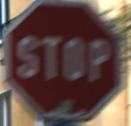Stop sign: (0, 0, 130, 125)
